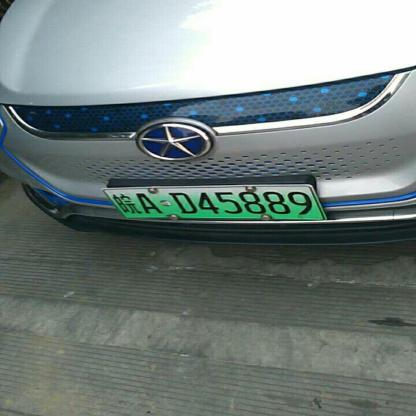lp: (103, 185, 326, 218)
